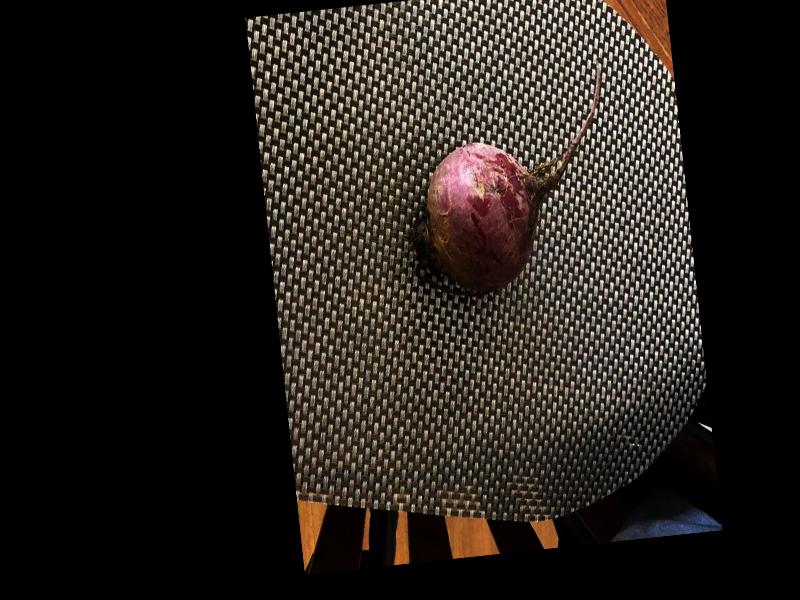Beet: (392, 62, 624, 300)
